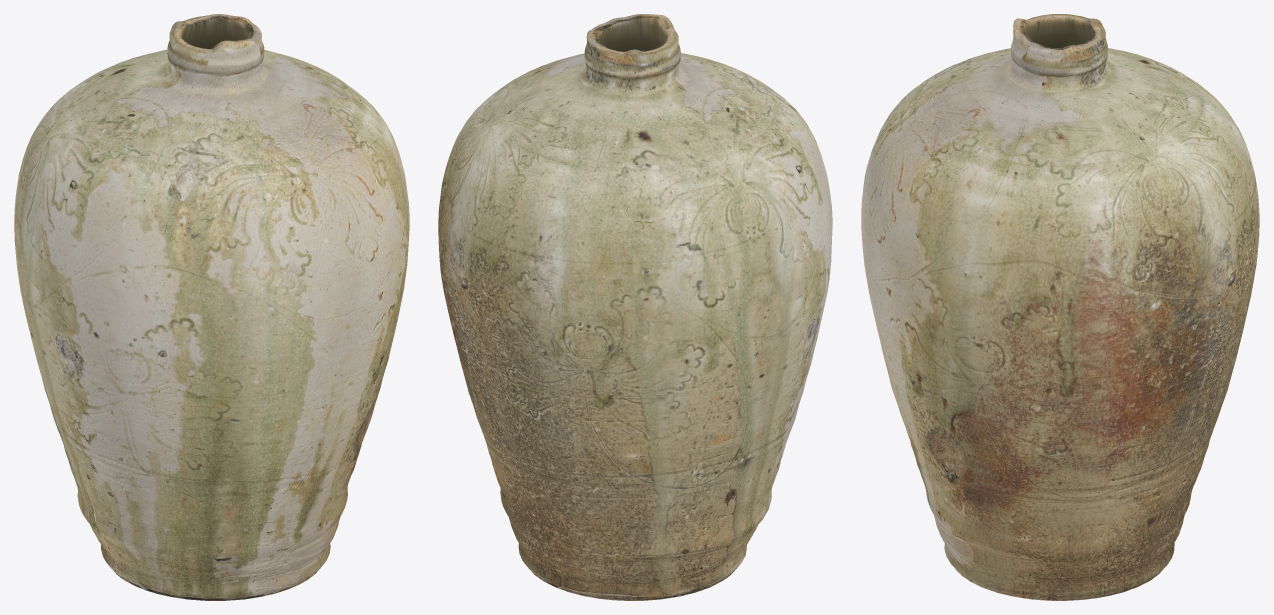
The model's file is comparison-1.glb.
The picture shows the model from 3 angles, left to right: view 1: azimuth 30°, elevation 25°; view 2: azimuth 150°, elevation 25°; view 3: azimuth 270°, elevation 25°; orthographic projection.
Visible parts, largest first — view 1: Japanese peony vase · photo-derived approximation; view 2: Japanese peony vase · photo-derived approximation; view 3: Japanese peony vase · photo-derived approximation.
Part boxes in pixels (x1,y1,x2,y2): Japanese peony vase · photo-derived approximation: (14, 14, 409, 600); Japanese peony vase · photo-derived approximation: (438, 14, 832, 600); Japanese peony vase · photo-derived approximation: (861, 14, 1259, 600).
Bounding box in the file's own units: 0.6835 × 1.01 × 0.6867.
Materials: 1 (1 with a texture image).
